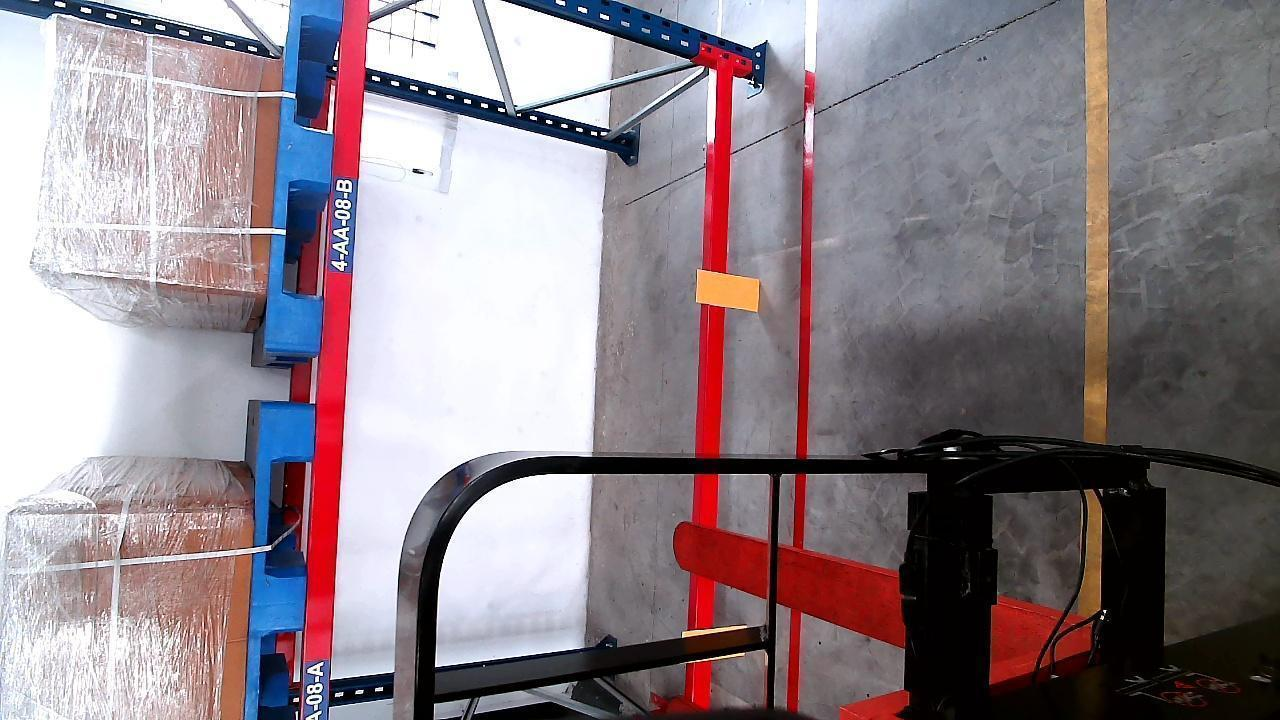red_line: (788, 36, 817, 710)
yellow_line: (1085, 0, 1112, 438)
